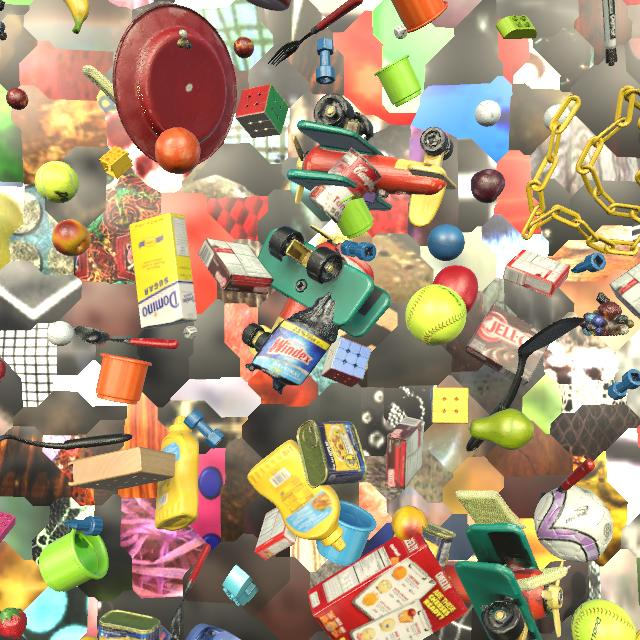ycb_003_cracker_box: (308, 532, 468, 640)
ycb_004_sugar_box: (129, 213, 197, 329)
ycb_005_tomato_soup_can: (308, 148, 382, 224)
ycb_006_mustard_bottle: (247, 440, 346, 551), (155, 416, 199, 531)
ycb_007_tuna_fish_can: (159, 625, 171, 640)
ycb_008_pudding_box: (465, 304, 549, 385), (198, 238, 274, 295), (385, 416, 425, 490), (609, 262, 640, 320)
ycb_009_gelatin_box: (503, 249, 570, 297), (254, 507, 297, 561)
ycb_010_potted_meat_can: (297, 420, 367, 488), (390, 522, 456, 584), (98, 610, 161, 640)
ycb_011_banana: (63, 0, 89, 34)
ycb_012_strawberry: (0, 607, 27, 639)
ycb_013_apple: (432, 265, 478, 314)
ycb_014_lemon: (80, 636, 98, 640)
ycb_015_peach: (52, 219, 91, 256), (392, 506, 428, 540)
ycb_016_pear: (468, 408, 534, 450)
ycb_017_orange: (155, 127, 200, 174)
ycb_018_plum: (470, 169, 505, 203)
